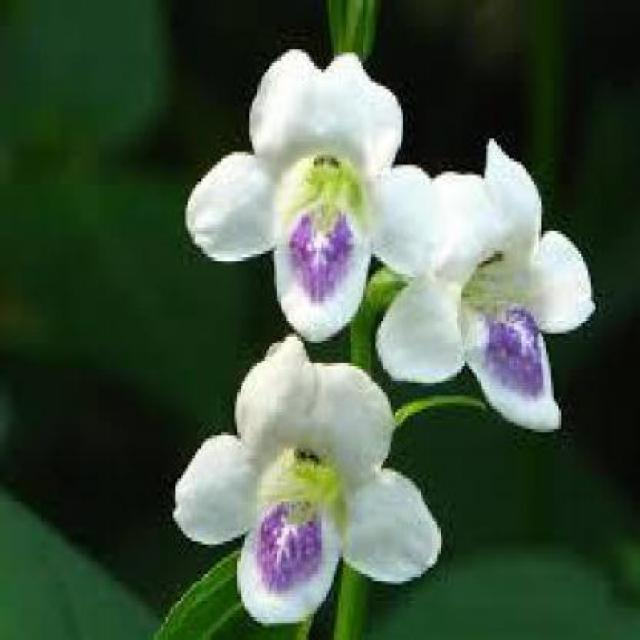flower: (166, 344, 446, 618), (363, 133, 595, 444), (188, 62, 432, 330)
